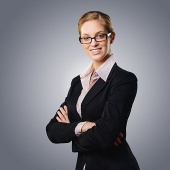female: (75, 12, 118, 64)
